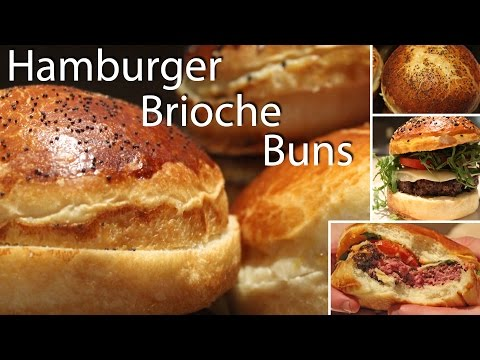hamburger_buns: (1, 83, 252, 304), (388, 119, 474, 215), (380, 52, 480, 110)
